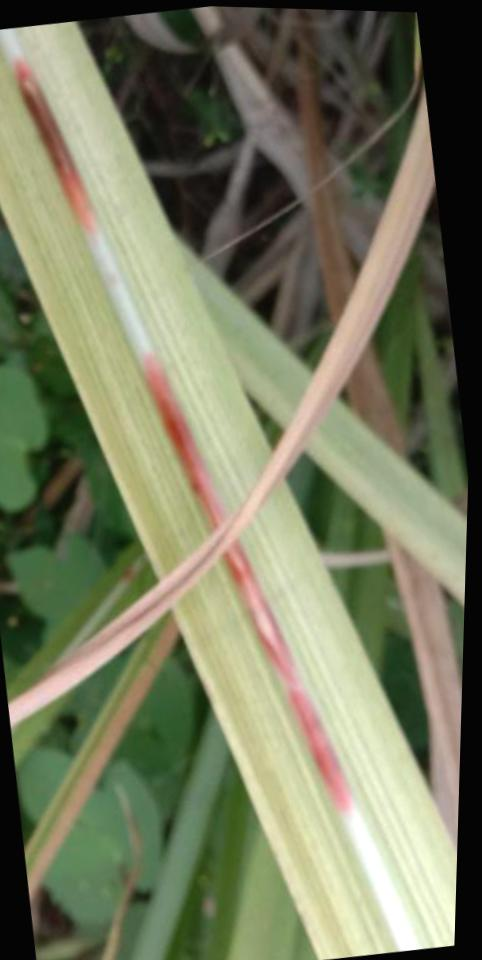RedRot: (225, 539, 356, 814), (12, 55, 99, 235), (140, 356, 224, 534)
